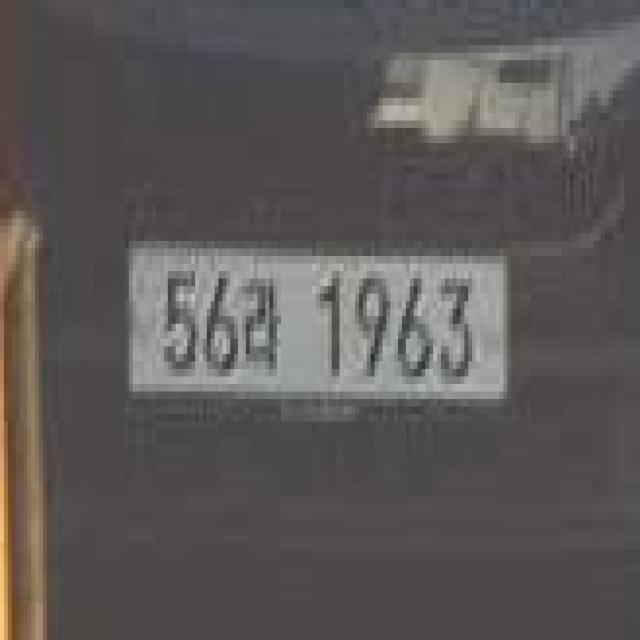1: (313, 262, 346, 384)
3: (439, 264, 476, 384)
5: (161, 260, 200, 374)
6: (396, 264, 436, 382), (202, 261, 239, 378)
9: (351, 264, 391, 382)
la: (241, 260, 284, 382)
license_plate: (117, 214, 516, 420)
